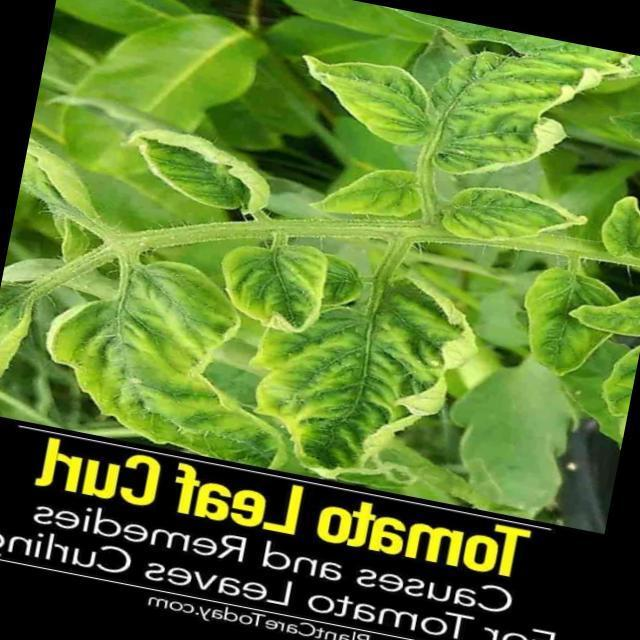Yellow Curl Virus: (31, 245, 317, 472), (235, 252, 490, 499), (428, 20, 610, 188), (112, 118, 282, 225), (290, 44, 445, 154), (430, 168, 592, 264), (506, 260, 626, 384), (221, 226, 339, 348), (304, 147, 432, 235), (599, 187, 640, 265)
